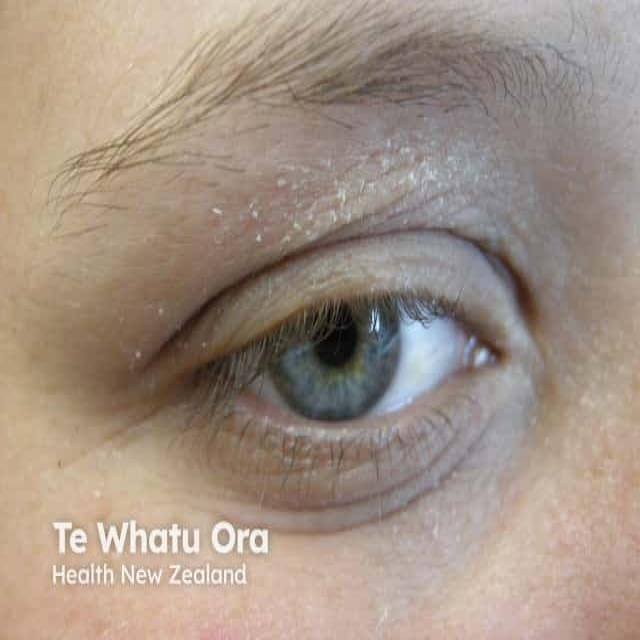Eczema: (121, 137, 632, 540)
